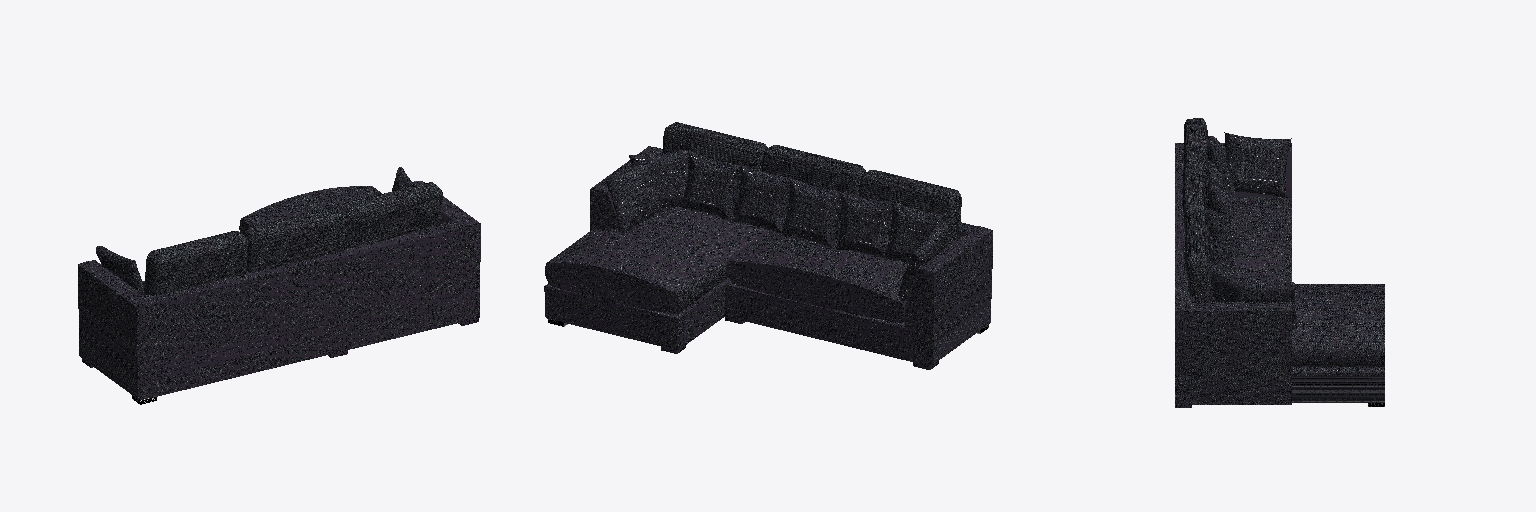
3 views of the same model, side by side, from view 1: azimuth 30°, elevation 25°; view 2: azimuth 150°, elevation 25°; view 3: azimuth 270°, elevation 25° (orthographic).
Parts seen in each view (by area): view 1: mesh4_mesh4-geometry, mesh2_mesh2-geometry, mesh1_mesh1-geometry; view 2: mesh4_mesh4-geometry, mesh1_mesh1-geometry, mesh2_mesh2-geometry, mesh3_mesh3-geometry; view 3: mesh4_mesh4-geometry, mesh1_mesh1-geometry, mesh2_mesh2-geometry, mesh3_mesh3-geometry.
Boxes of the visible parts, box(x1,y1,x2,y2) form: mesh4_mesh4-geometry: box(78, 181, 480, 400); mesh2_mesh2-geometry: box(144, 182, 442, 295); mesh1_mesh1-geometry: box(96, 167, 415, 294); mesh4_mesh4-geometry: box(544, 146, 992, 369); mesh1_mesh1-geometry: box(606, 162, 947, 300); mesh2_mesh2-geometry: box(662, 122, 961, 249); mesh3_mesh3-geometry: box(629, 150, 740, 223); mesh4_mesh4-geometry: box(1175, 143, 1384, 407); mesh1_mesh1-geometry: box(1207, 132, 1298, 328); mesh2_mesh2-geometry: box(1183, 118, 1213, 301); mesh3_mesh3-geometry: box(1210, 235, 1245, 301).
Size of the model in its own units: 0.8365 by 0.3224 by 0.4429.
8 materials, 4 textured.